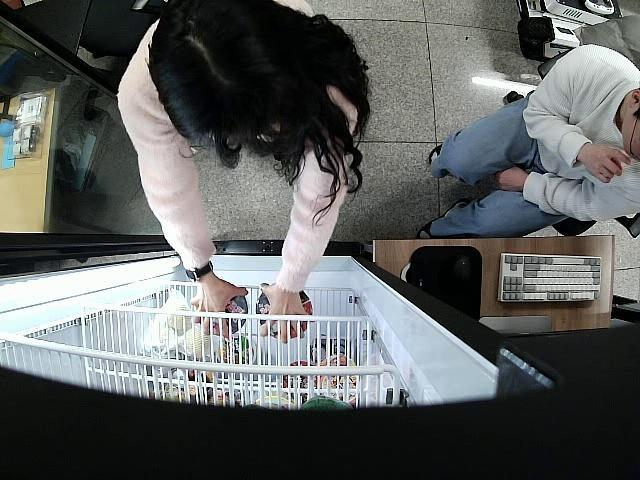07_buldak_L: (256, 291, 312, 340), (218, 291, 250, 338)
